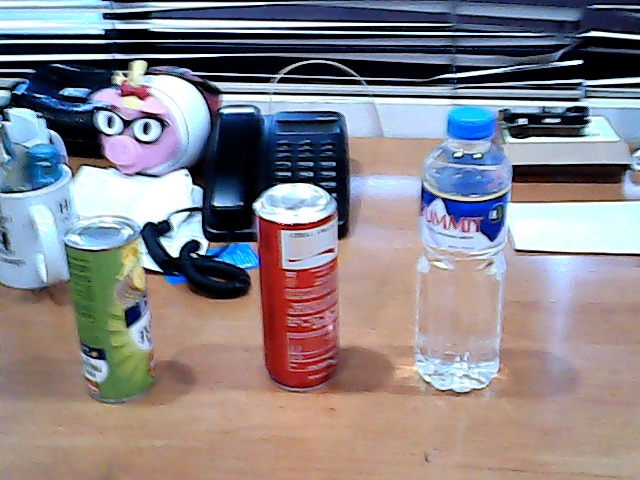Cola: (237, 164, 363, 422)
Pine Juice: (47, 212, 184, 418)
Summit Water: (397, 81, 530, 417)
